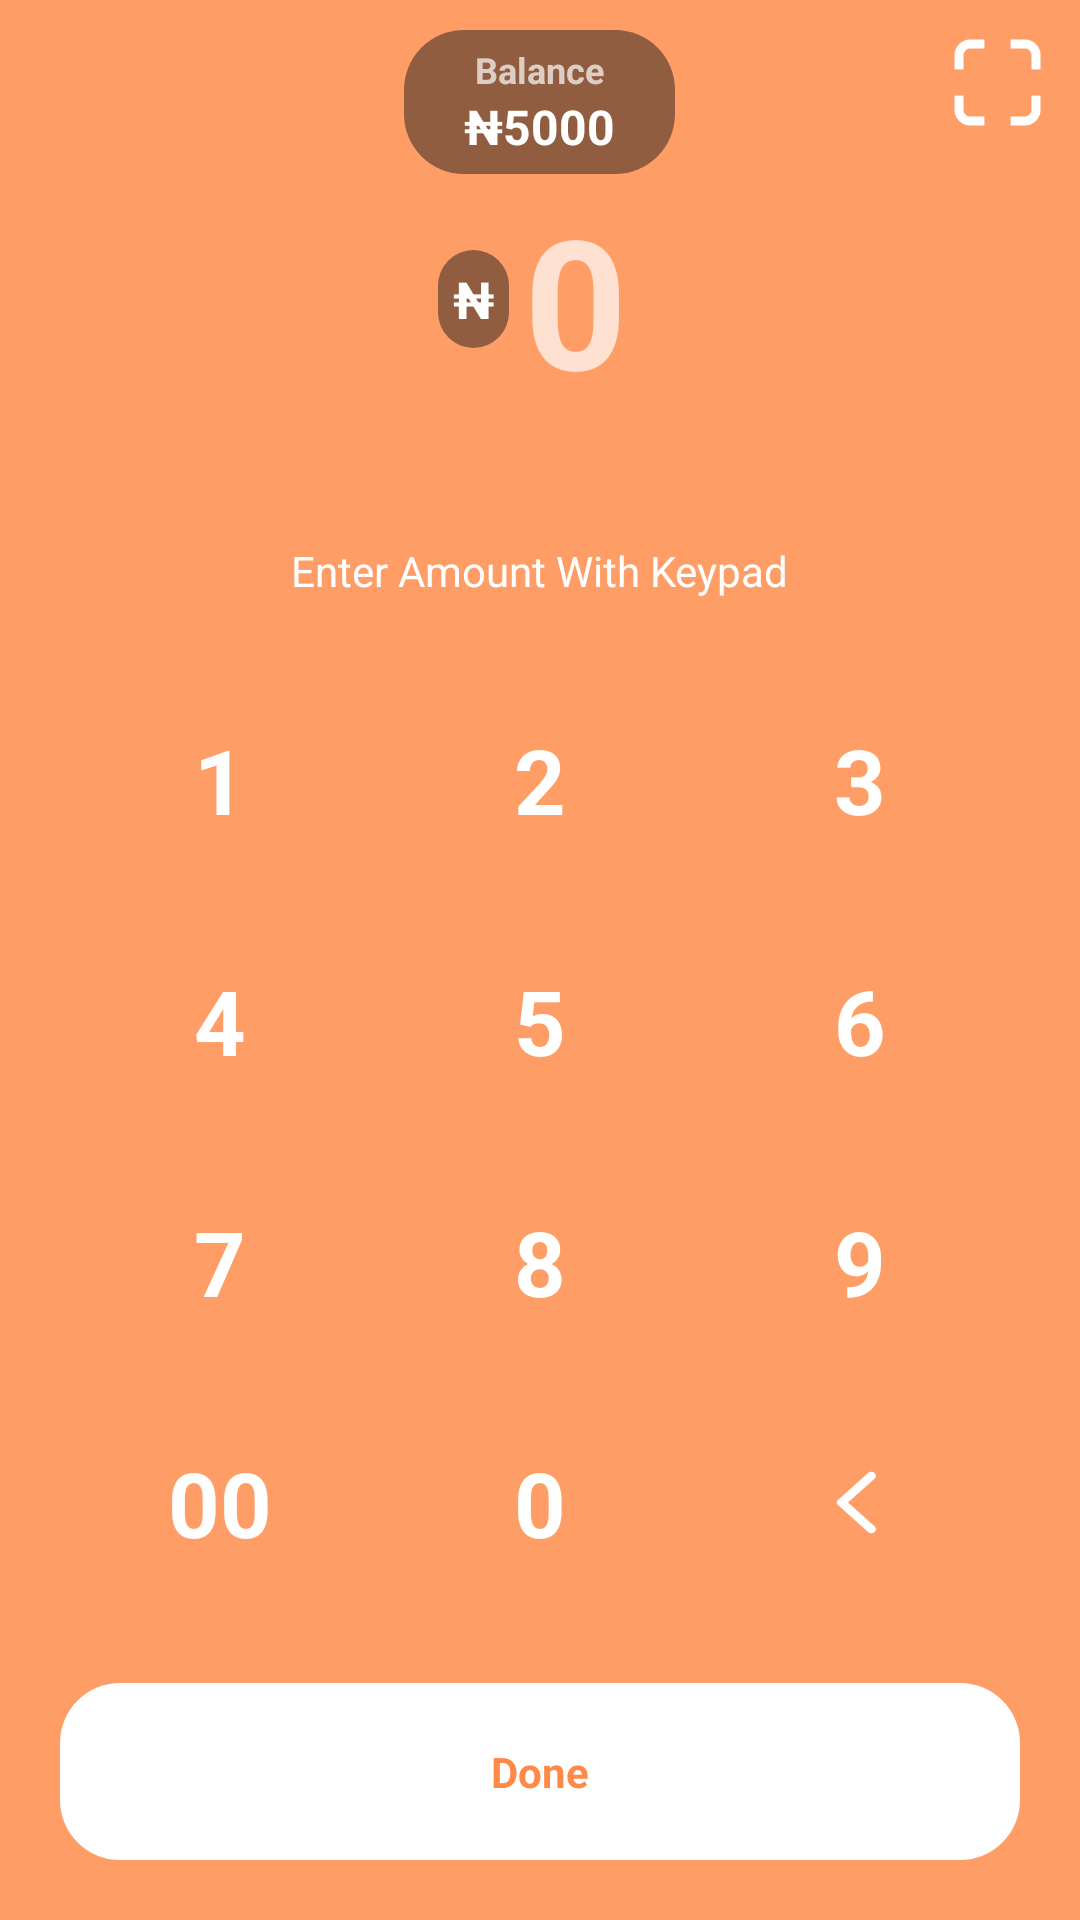

Locate icon controls on the screen. Image size 1080px×1920px, boxes as (x1, y1, x2, y2).
arrow back: (836, 1471, 876, 1534)
ion scan sharp: (954, 39, 1041, 126)
